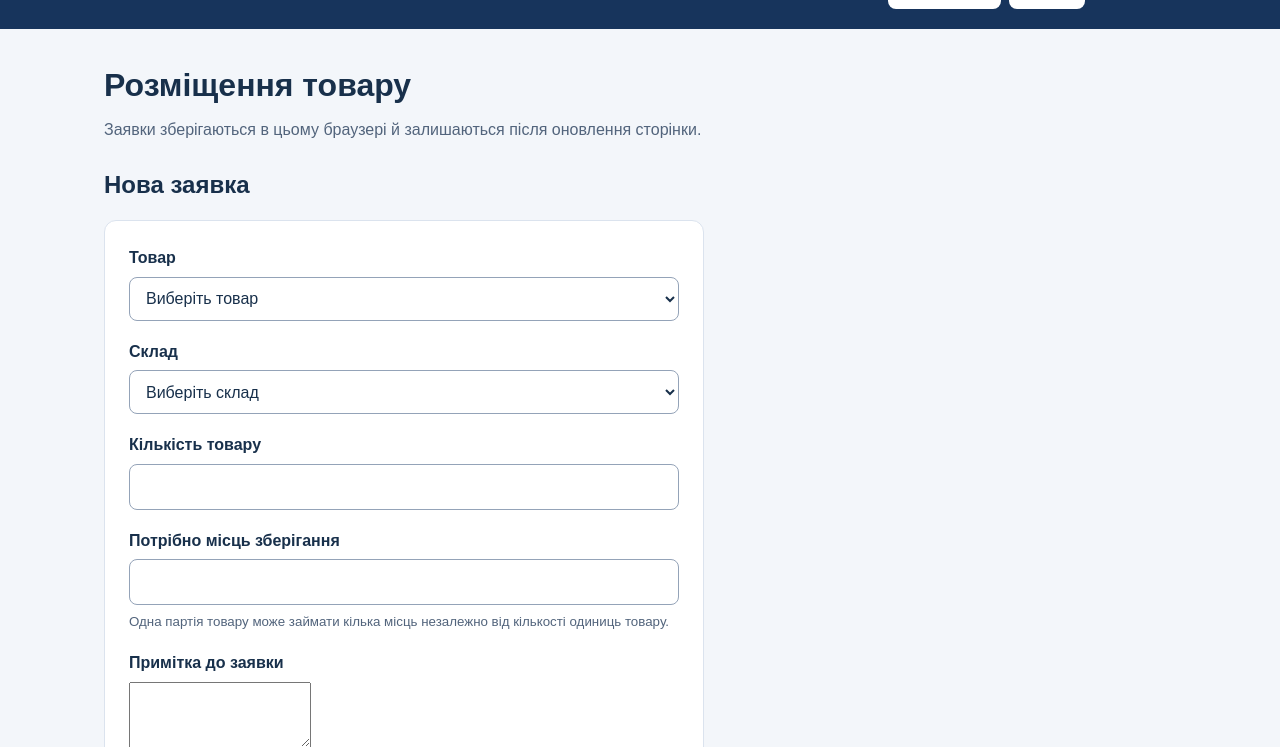
Test: зберігає введені дані після помилки та створює заявку при повторі
This screenshot has width=1280, height=747.
Select "Цегла будівельна" in the dropdown labelled "Товар" at (404, 299), box 129,277 -> 679,321
Select "Центральний склад" in the dropdown labelled "Склад" at (404, 392), box 129,370 -> 679,414
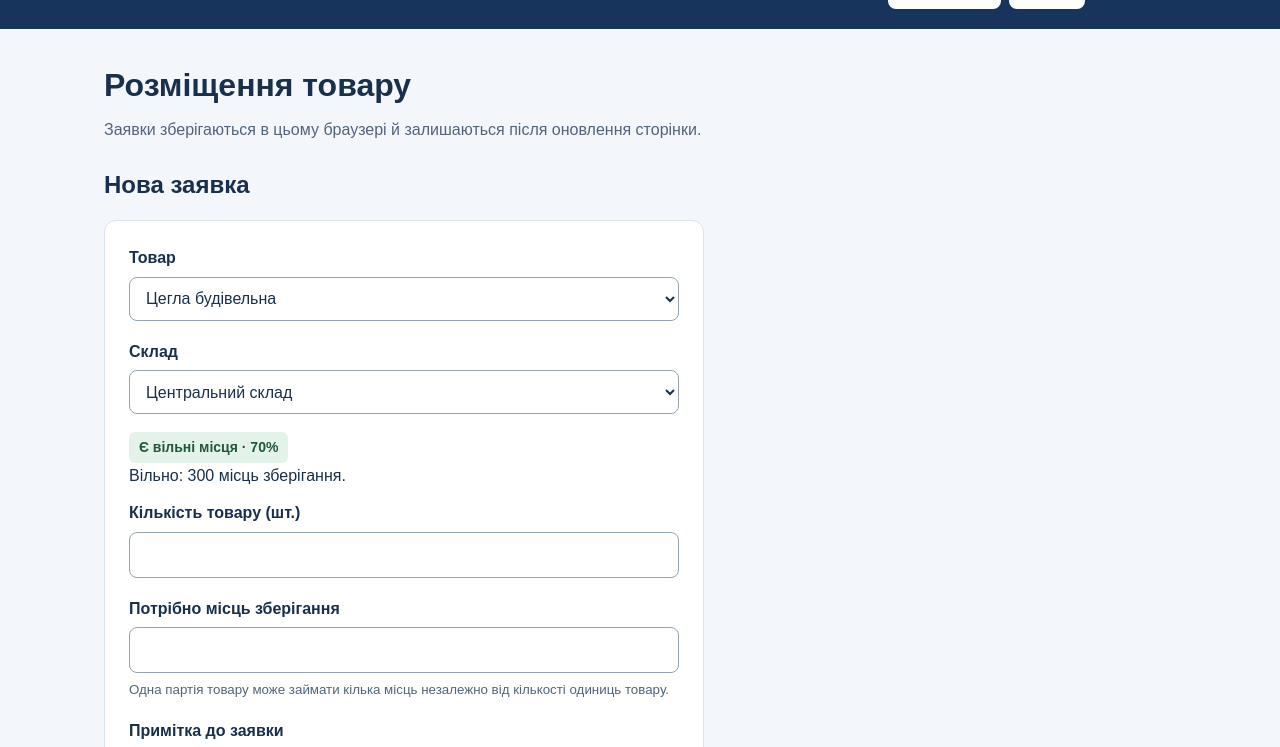
Type "20" into the number field labelled "Кількість товару (шт.)" at (404, 555), box 129,532 -> 679,578
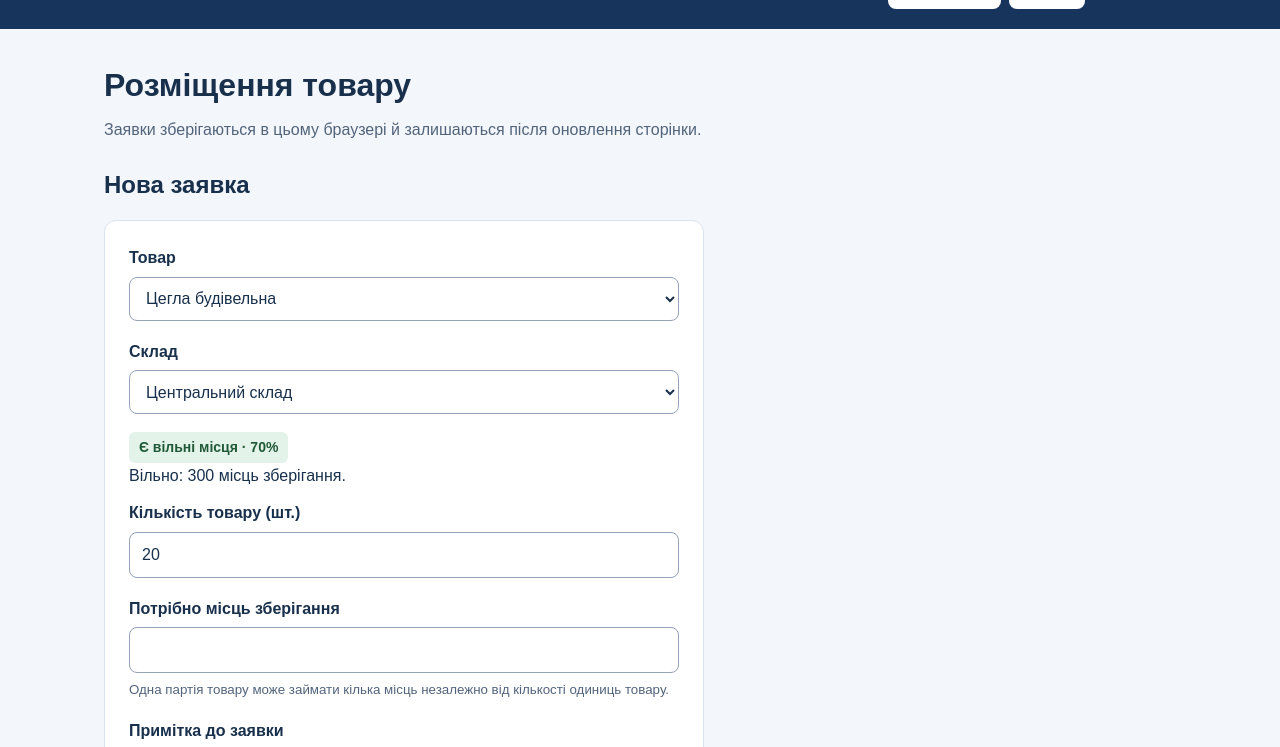
Type "2" into the number field labelled "Потрібно місць зберігання" at (404, 650), box 129,627 -> 679,673
(page scrolled)
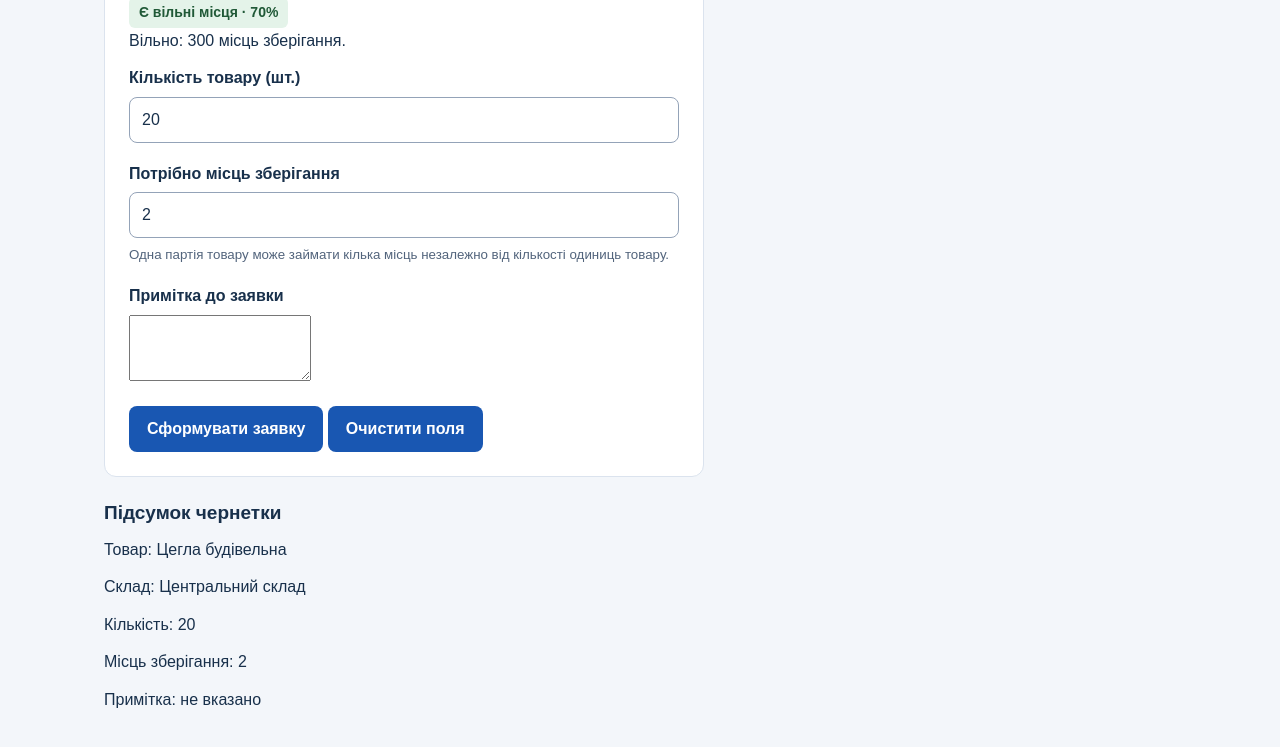
Type "Розмістити товар на складі." into the text box labelled "Примітка до заявки" at (220, 348), box 129,315 -> 311,381
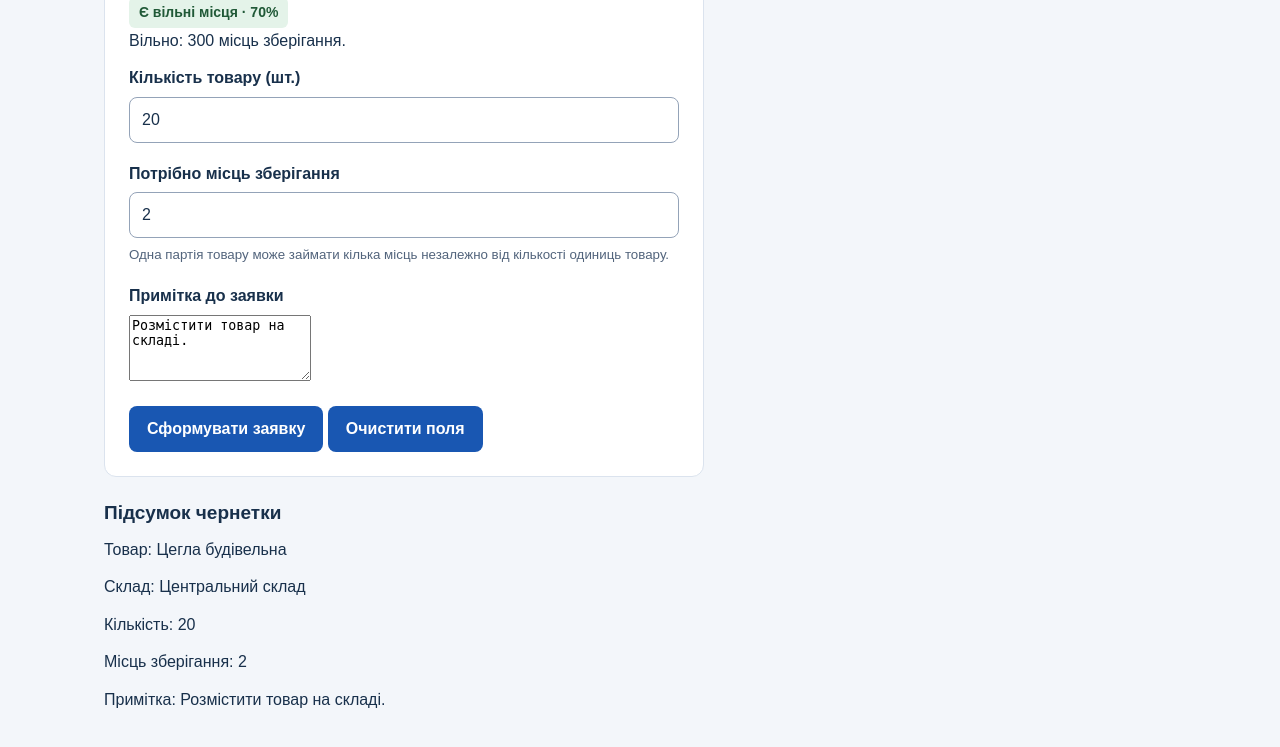
Click the button "Сформувати заявку" at (226, 429), box 129,406 -> 323,452
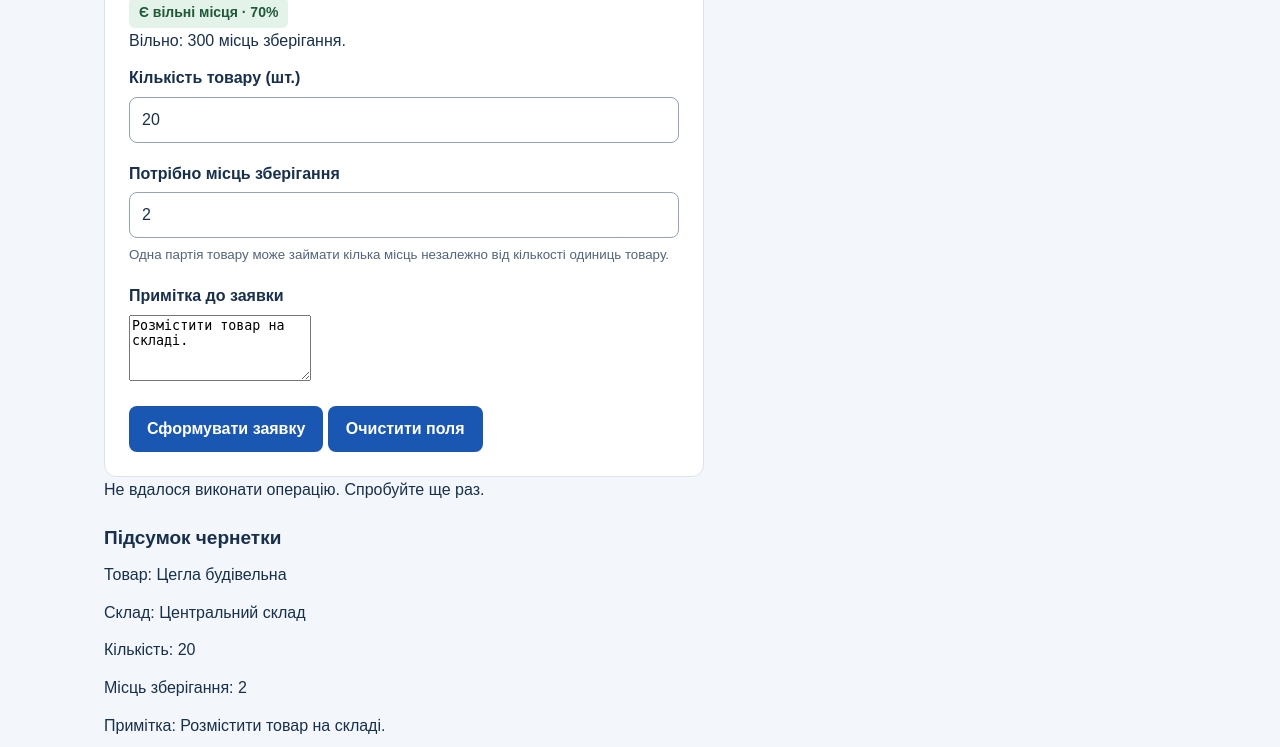
Check: the message "Не вдалося виконати операцію. Спробуйте ще раз." is shown, box 104,481 -> 484,498
// Повторюємо збереження.
Click the button "Сформувати заявку" at (226, 429), box 129,406 -> 323,452
(page scrolled)
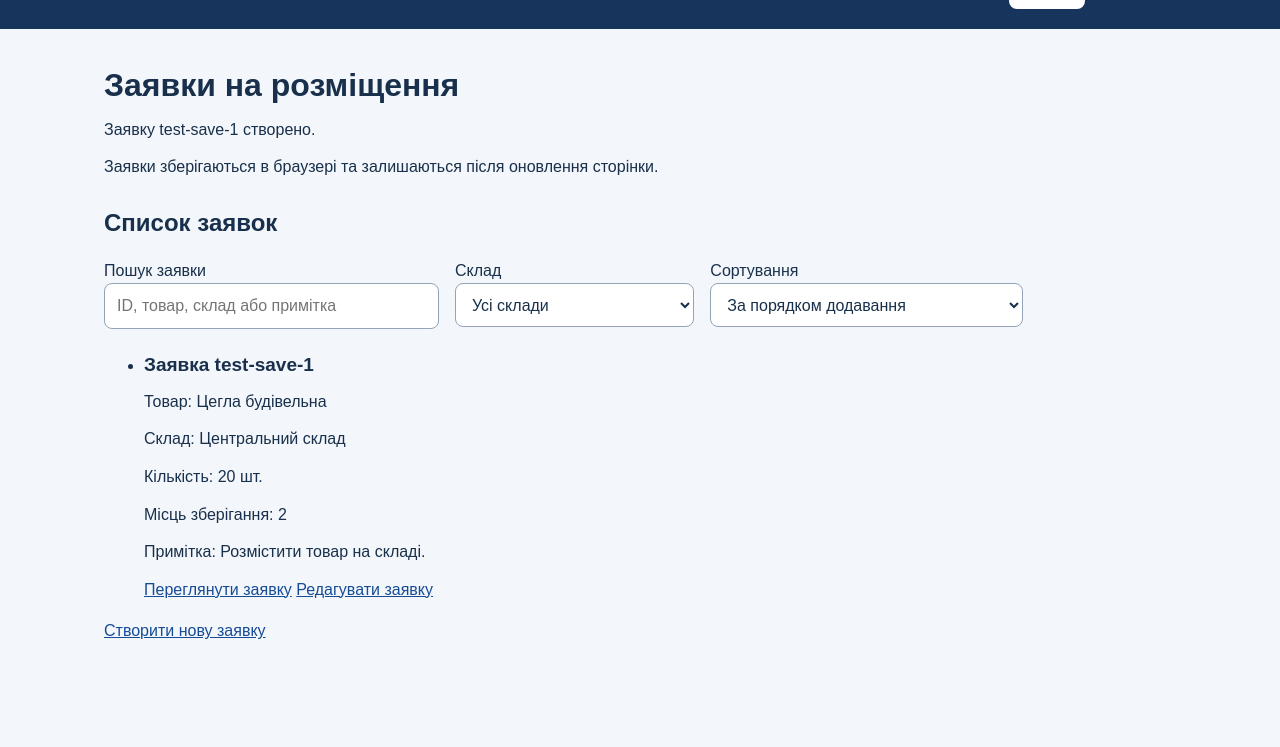
Check: the text "Заявку test-save-1 створено." is shown, box 104,121 -> 316,138
Check: the heading "Заявка test-save-1" is shown, box 144,354 -> 314,375
